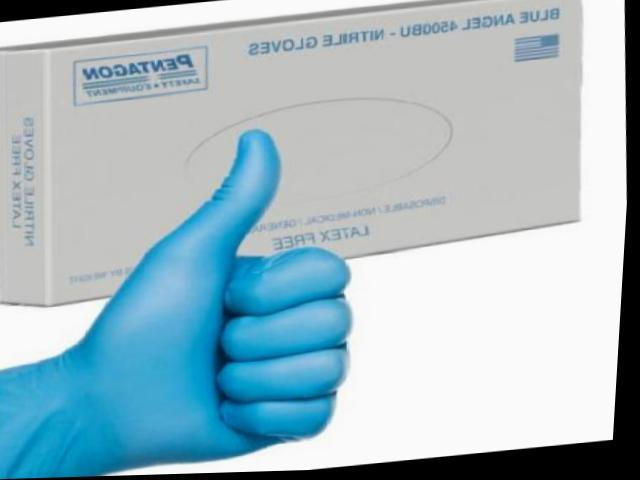Hand-in-Glove: (0, 107, 385, 480)
